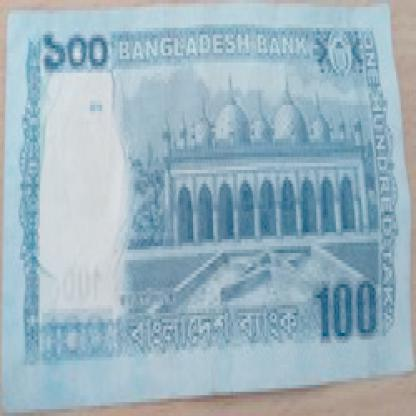one hundred taka: (311, 277, 381, 354), (40, 21, 111, 83)
